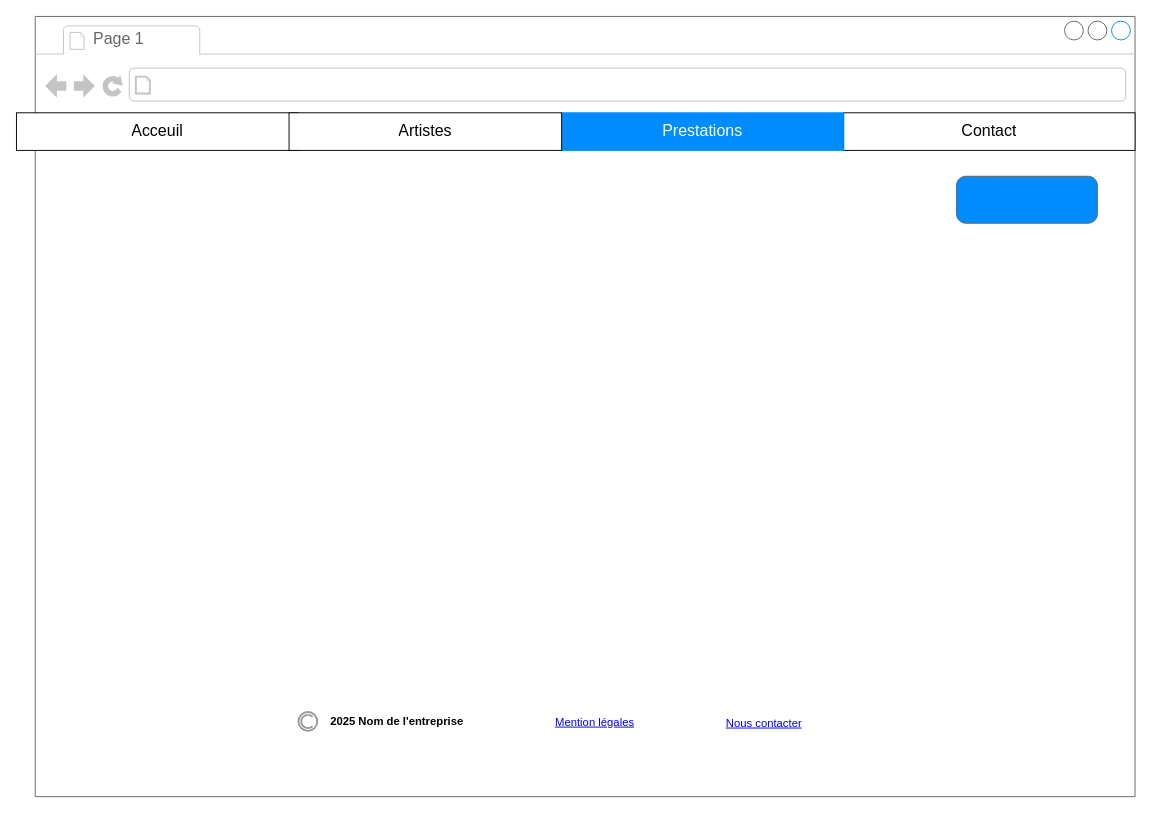
Some shapes in this 1152 by 813 pixel diagram are drawn without their labels. The centre of each missing label's shape, as x and y in pixels:
https://www.draw.io: point (274, 84)
Mon compte: point (1026, 199)
